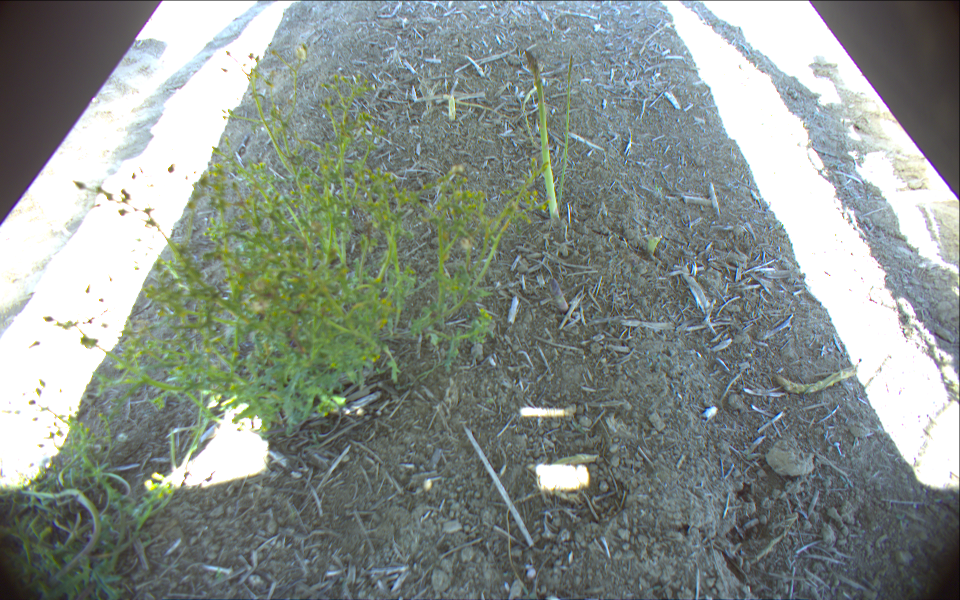aspa: (521, 48, 561, 224), (554, 52, 577, 221)
